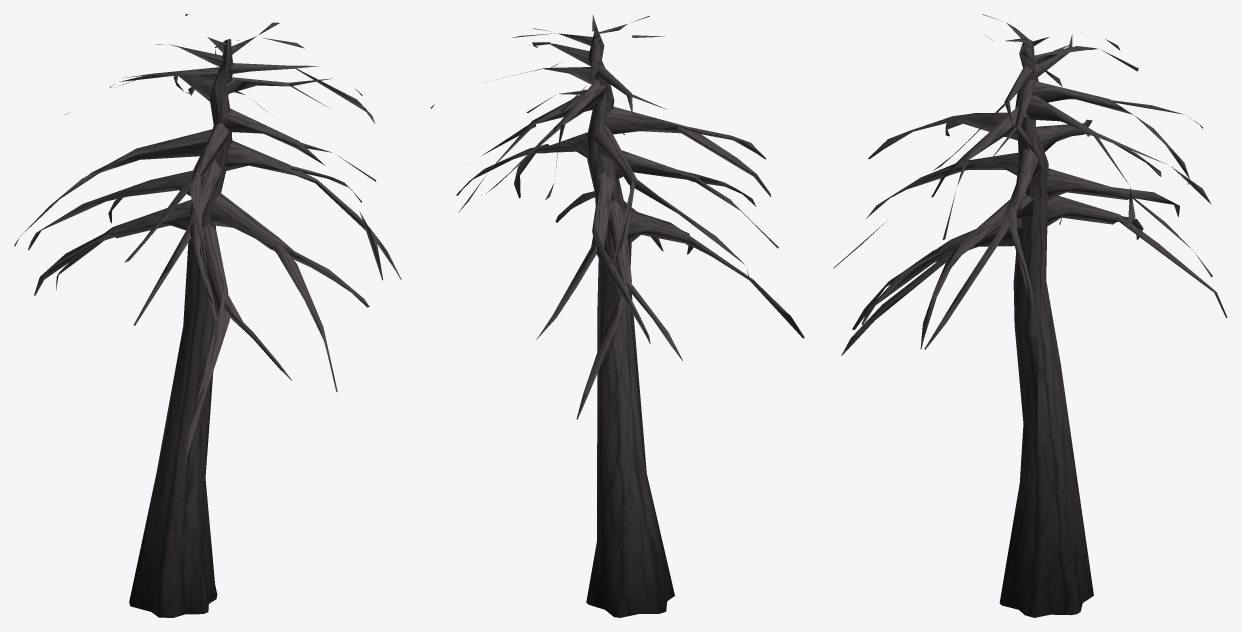
File: DeadTree_4_far.gltf
3 views of the same model, side by side, from view 1: azimuth 30°, elevation 25°; view 2: azimuth 150°, elevation 25°; view 3: azimuth 270°, elevation 25° (orthographic). The views are drawn at different scales.
Visible parts, largest first — view 1: DeadTree_4; view 2: DeadTree_4; view 3: DeadTree_4.
Part boxes in pixels (x1,y1,x2,y2): DeadTree_4: [14, 14, 401, 617]; DeadTree_4: [430, 15, 804, 617]; DeadTree_4: [833, 14, 1227, 617].
Bounding box in the file's own units: 7.93 × 12.73 × 7.7.
Materials: 1 (1 with a texture image).
